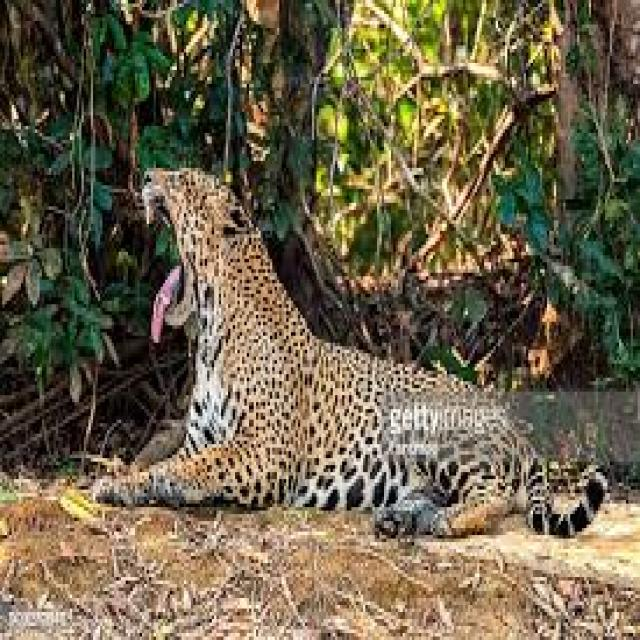Jaguar: (135, 157, 382, 503)
